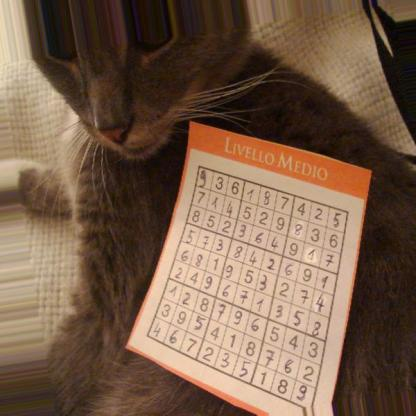sudoku: (144, 160, 352, 408)
